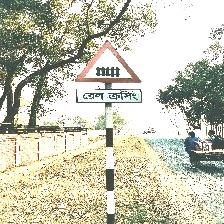Rail-crossing: (74, 41, 143, 103)
